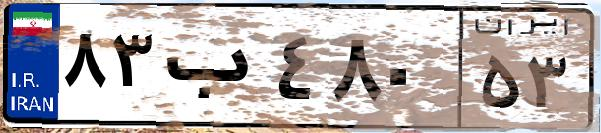0: (385, 28, 445, 110)
3: (525, 38, 570, 115), (110, 28, 158, 98)
4: (270, 28, 330, 110)
5: (475, 38, 525, 113)
8: (330, 28, 385, 110), (57, 26, 110, 100)
ب: (158, 20, 270, 120)
